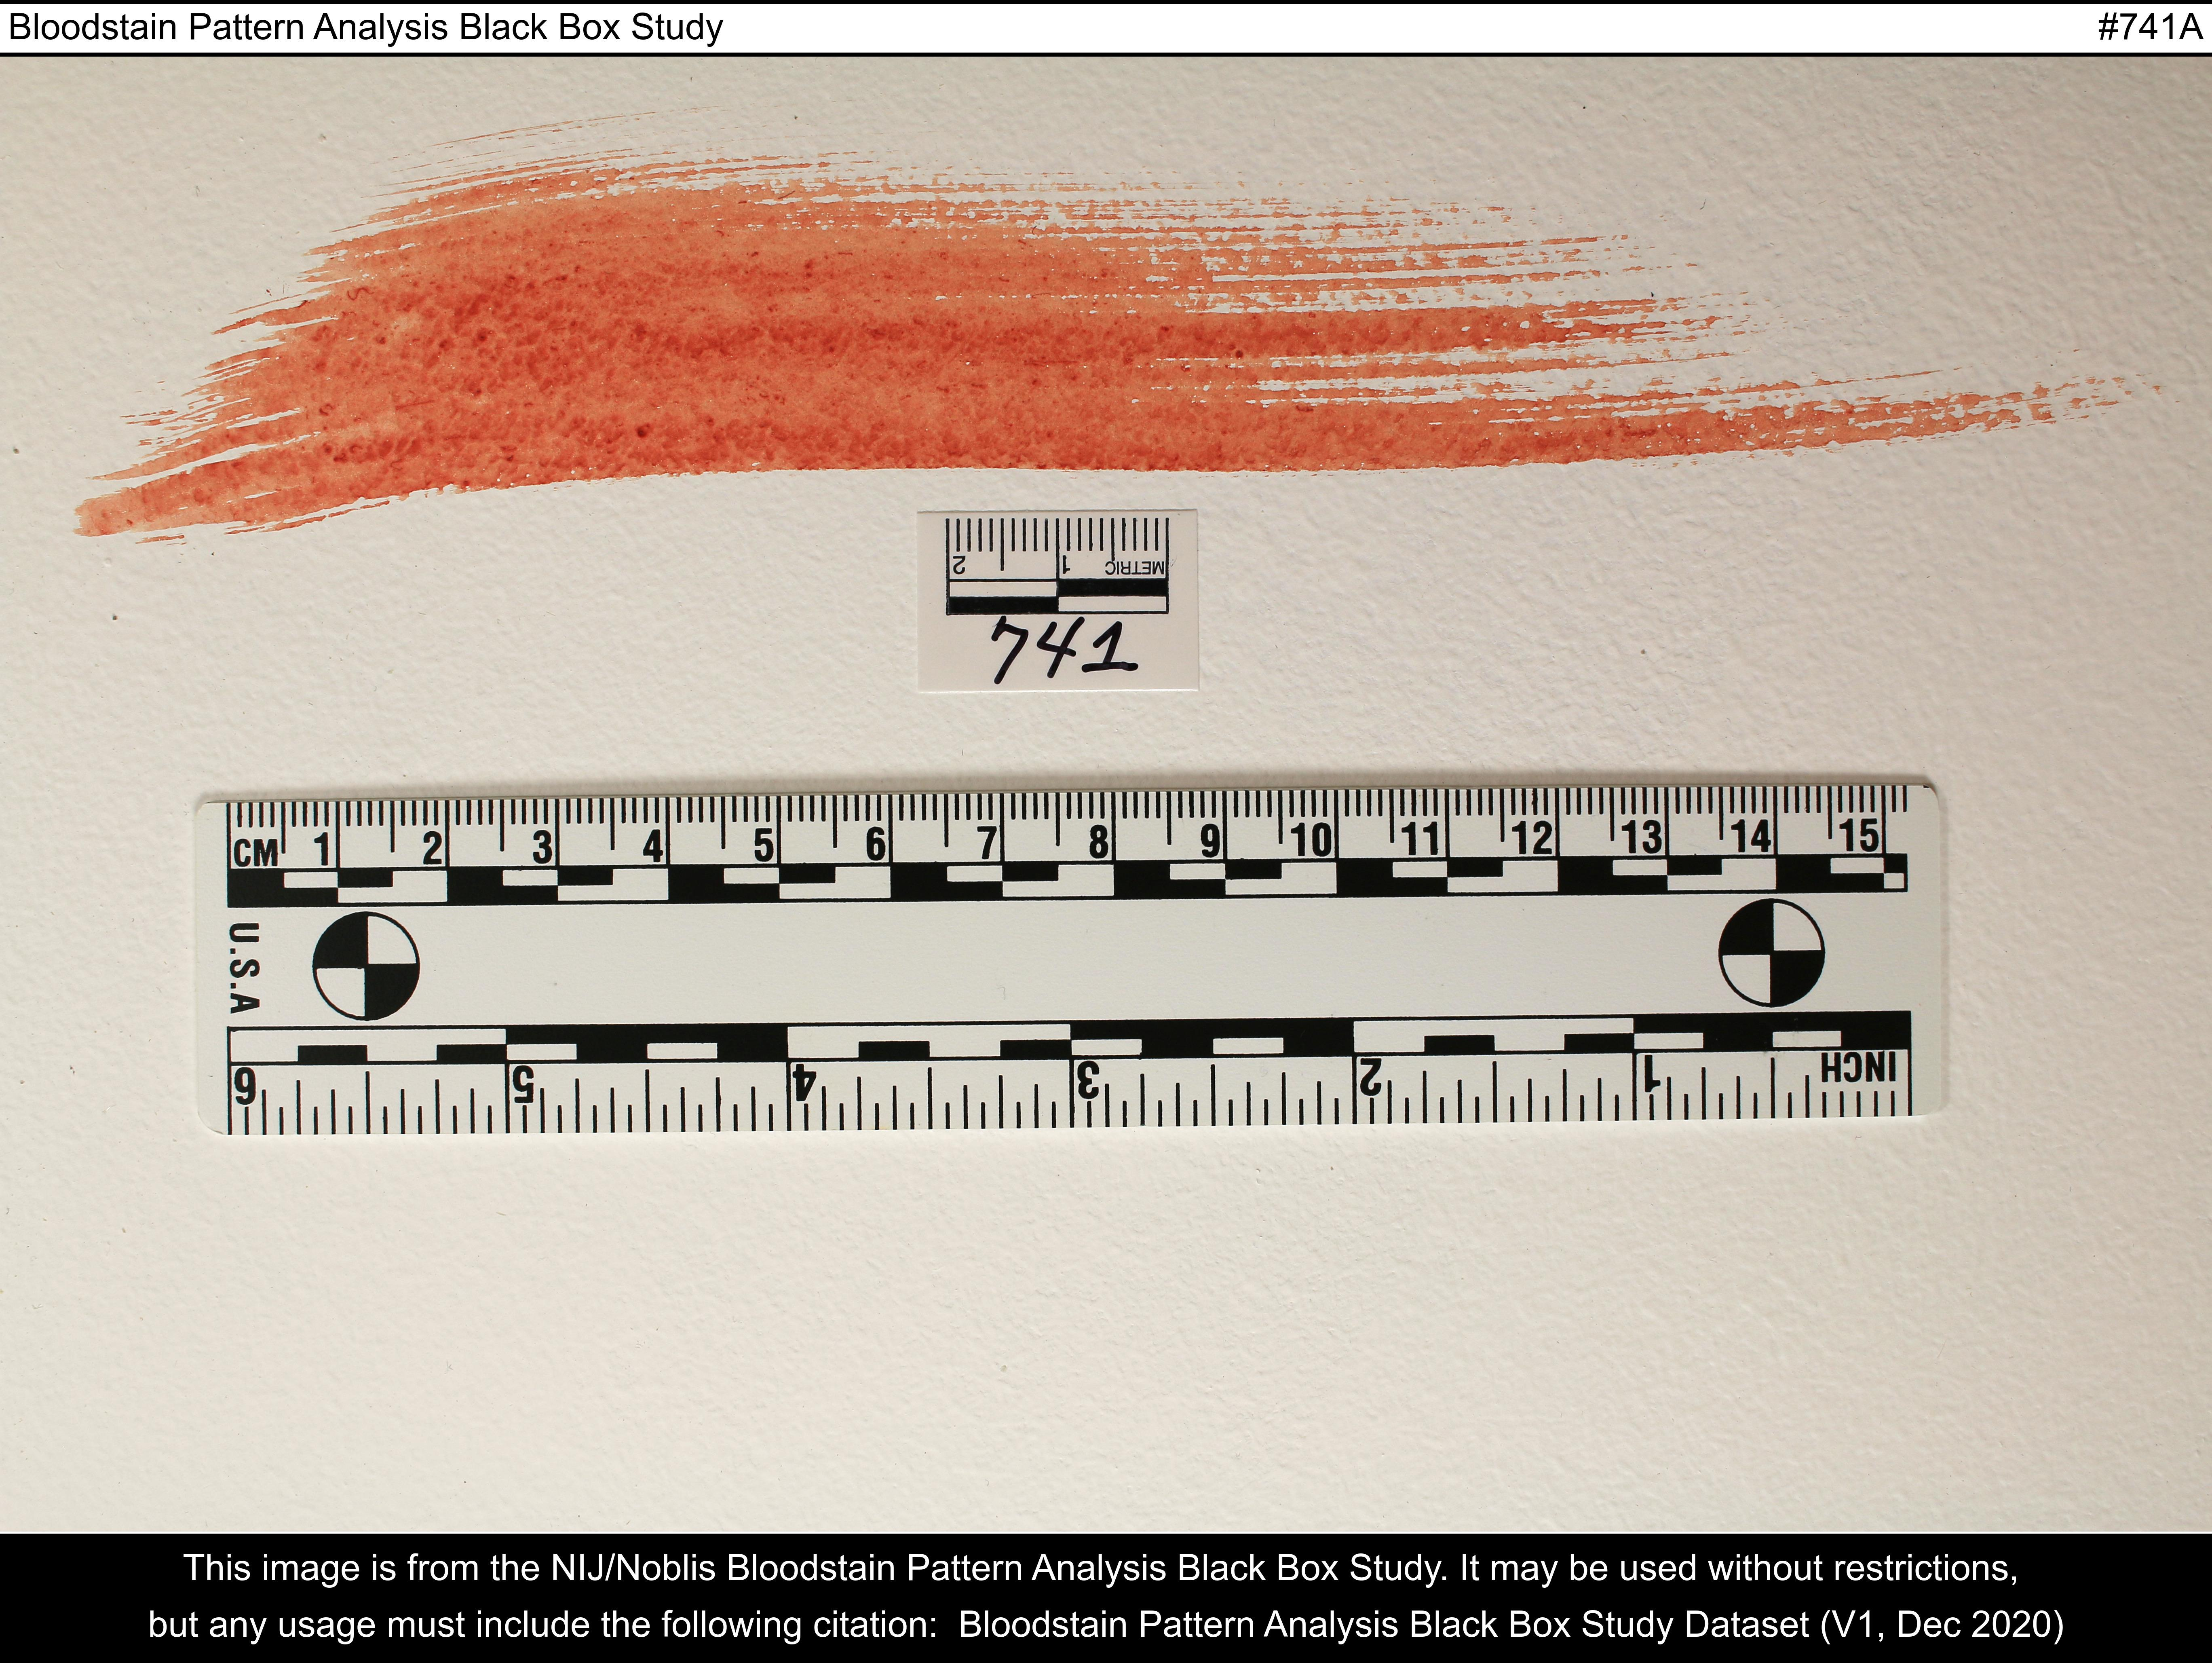Transfer: (52, 101, 2170, 594)
